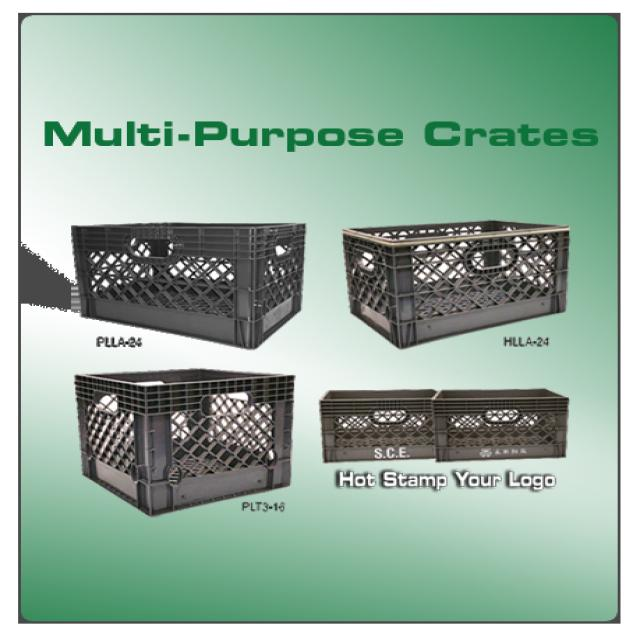basket: (345, 213, 579, 353), (70, 222, 305, 349), (320, 386, 572, 463)
